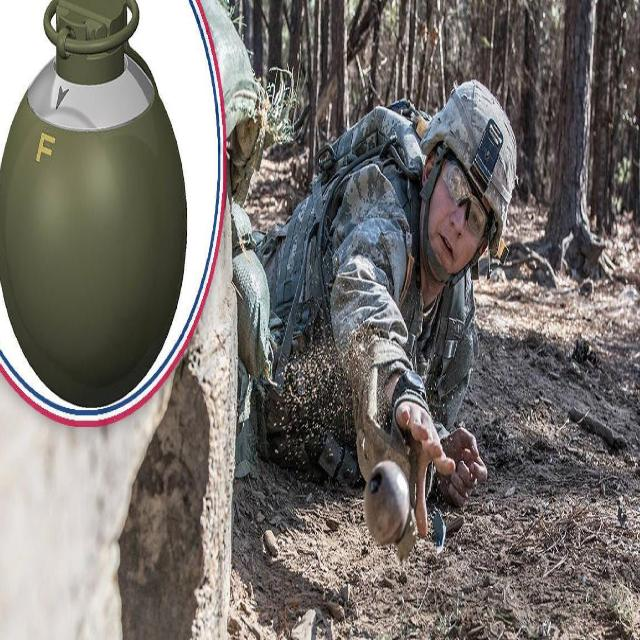grenade: (1, 1, 188, 410), (1, 1, 188, 407), (364, 460, 420, 566)
